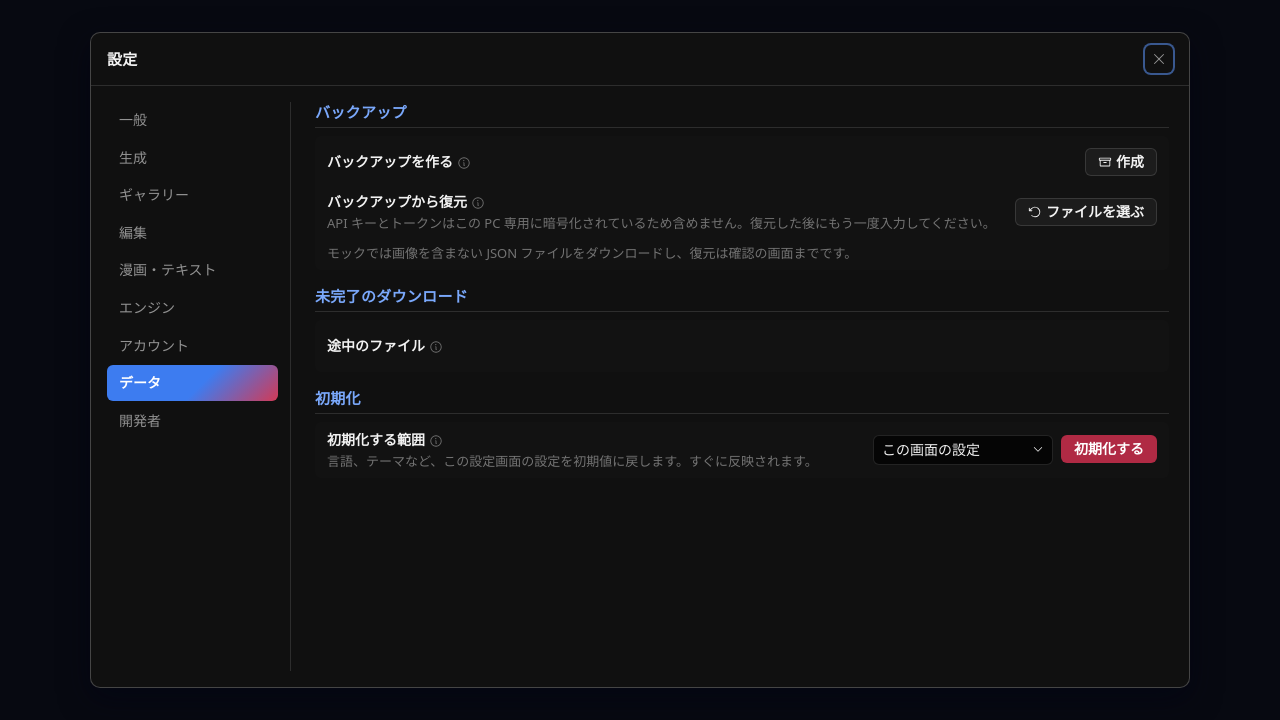
Scenario: resetting › clears every saved key of the app for everything, and nothing outside it
Click the tab with test id "settings-tab-general": (192, 120) x1=107 y1=102 x2=278 y2=138
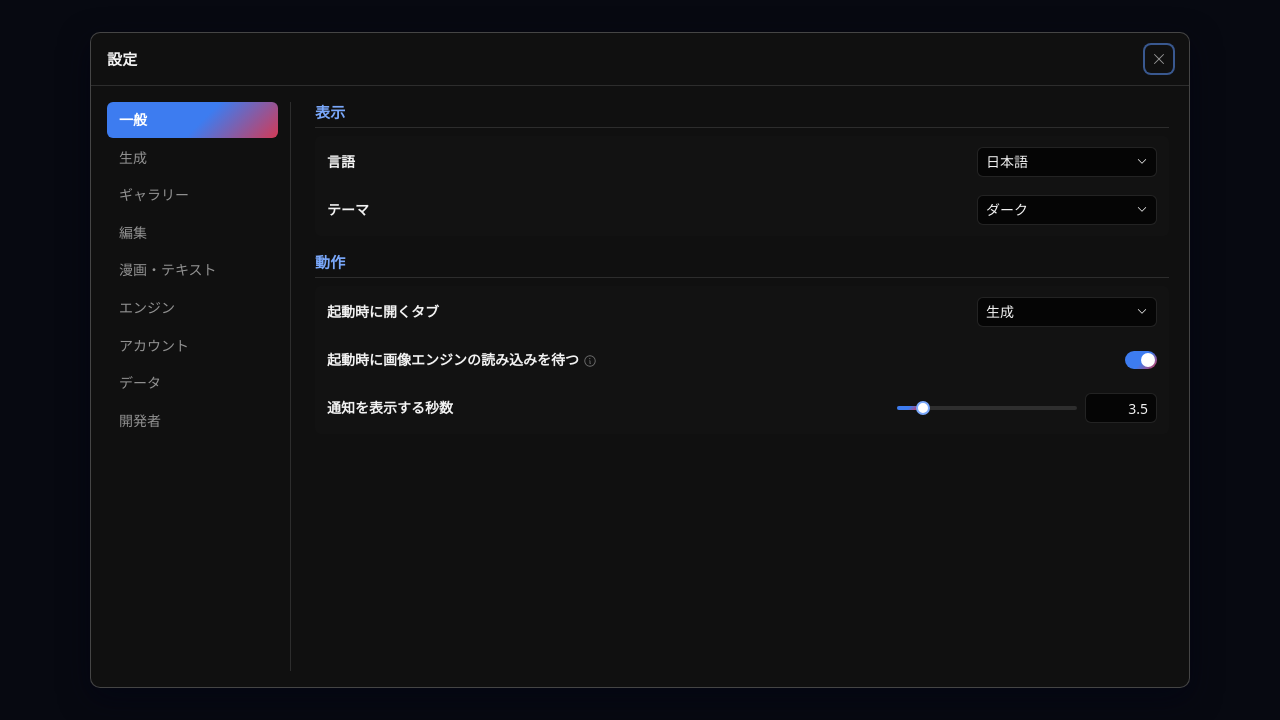
Click the tab with test id "settings-tab-data": (192, 383) x1=107 y1=365 x2=278 y2=401
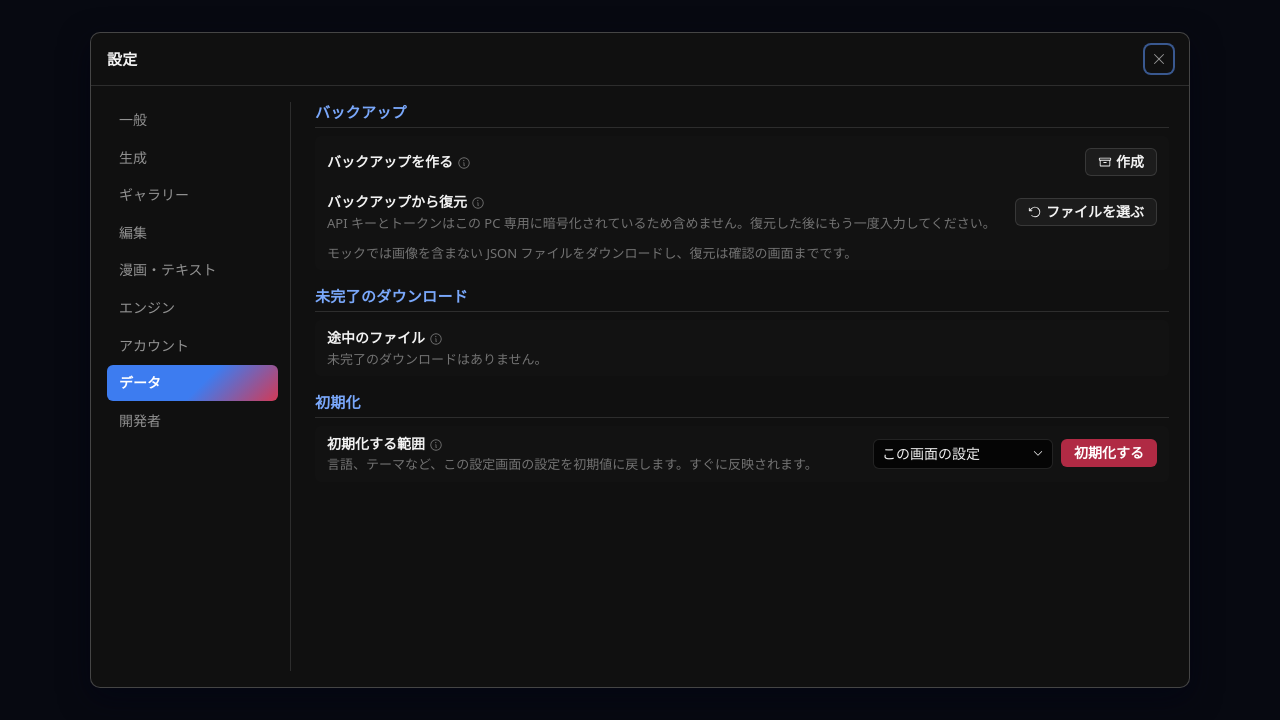
Press Enter in the dropdown with test id "settings-reset-scope", box x1=873 y1=439 x2=1053 y2=469
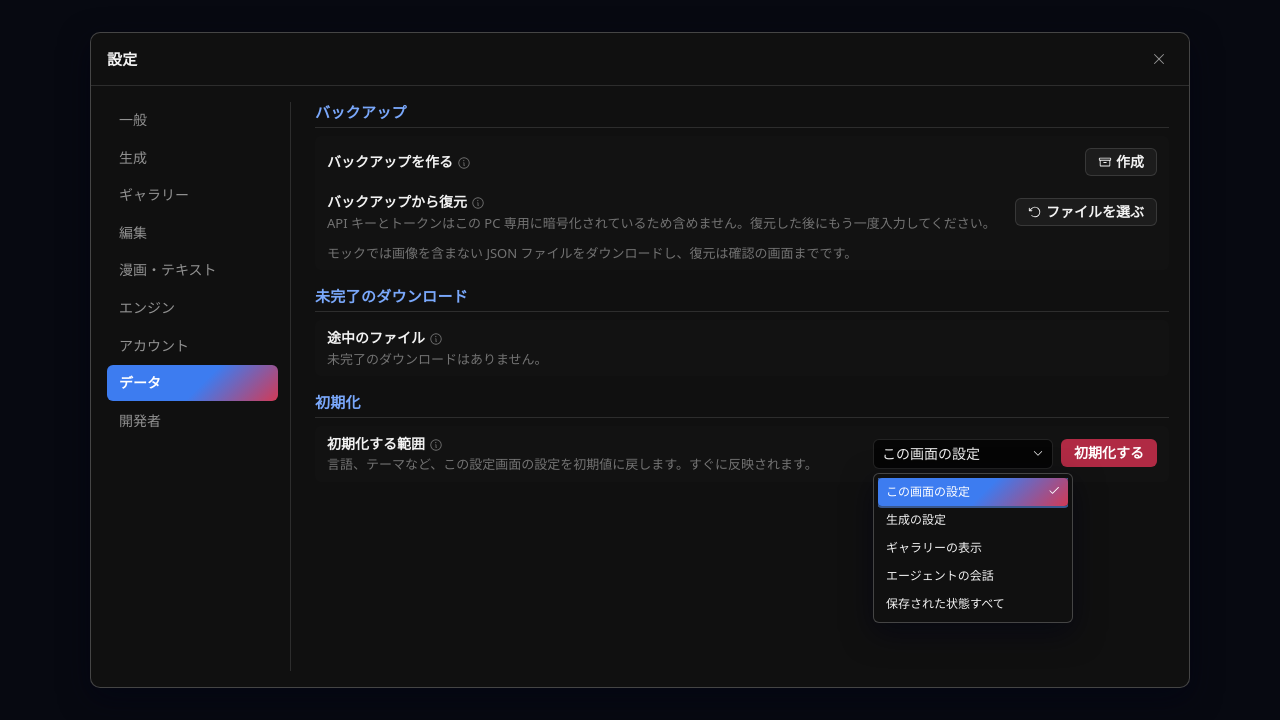
Press Enter in the option "保存された状態すべて", box x1=886 y1=595 x2=1005 y2=612
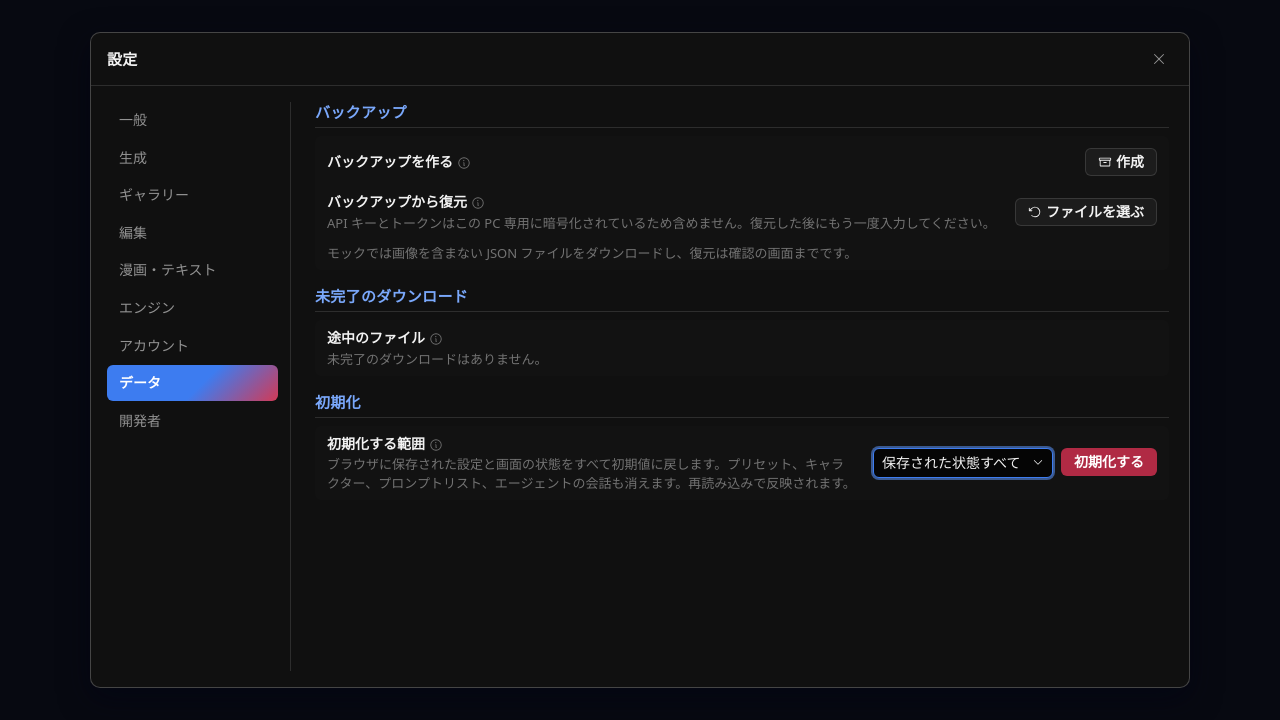
Result: the list is gone
Click the button with test id "settings-reset": (1109, 462) x1=1061 y1=448 x2=1157 y2=476
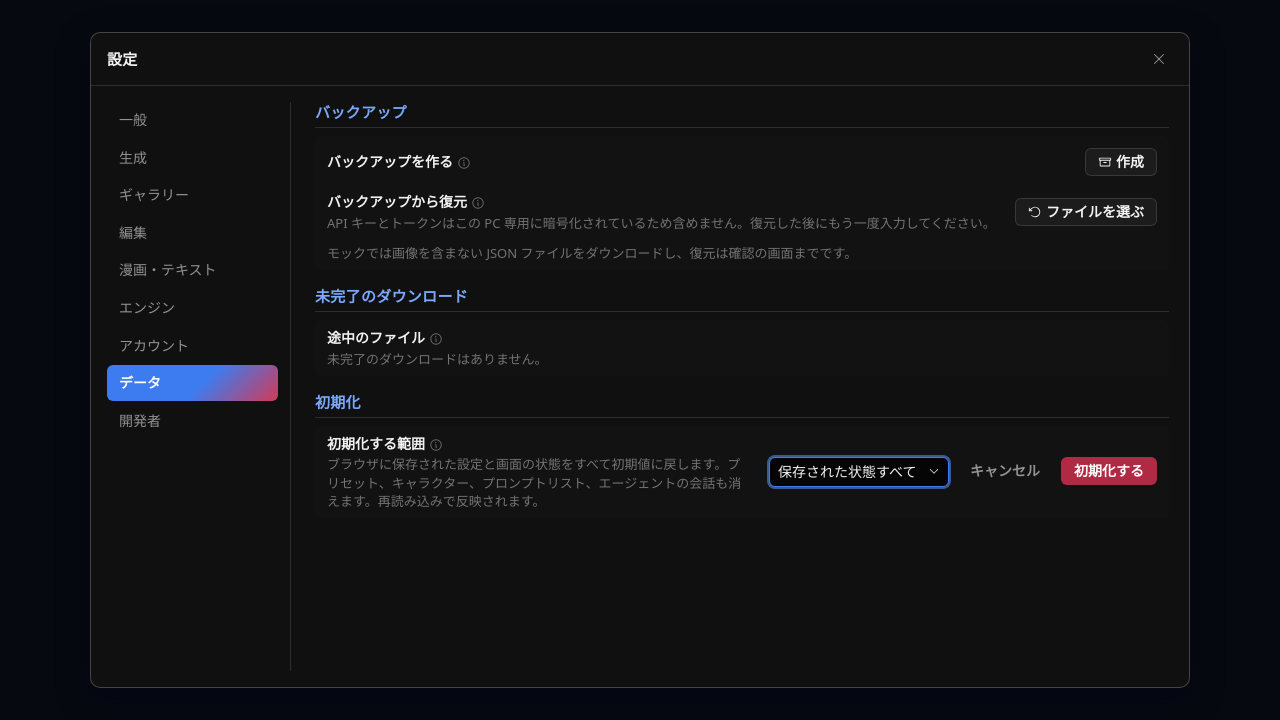
Click the button with test id "settings-reset-confirm": (1109, 471) x1=1061 y1=457 x2=1157 y2=485
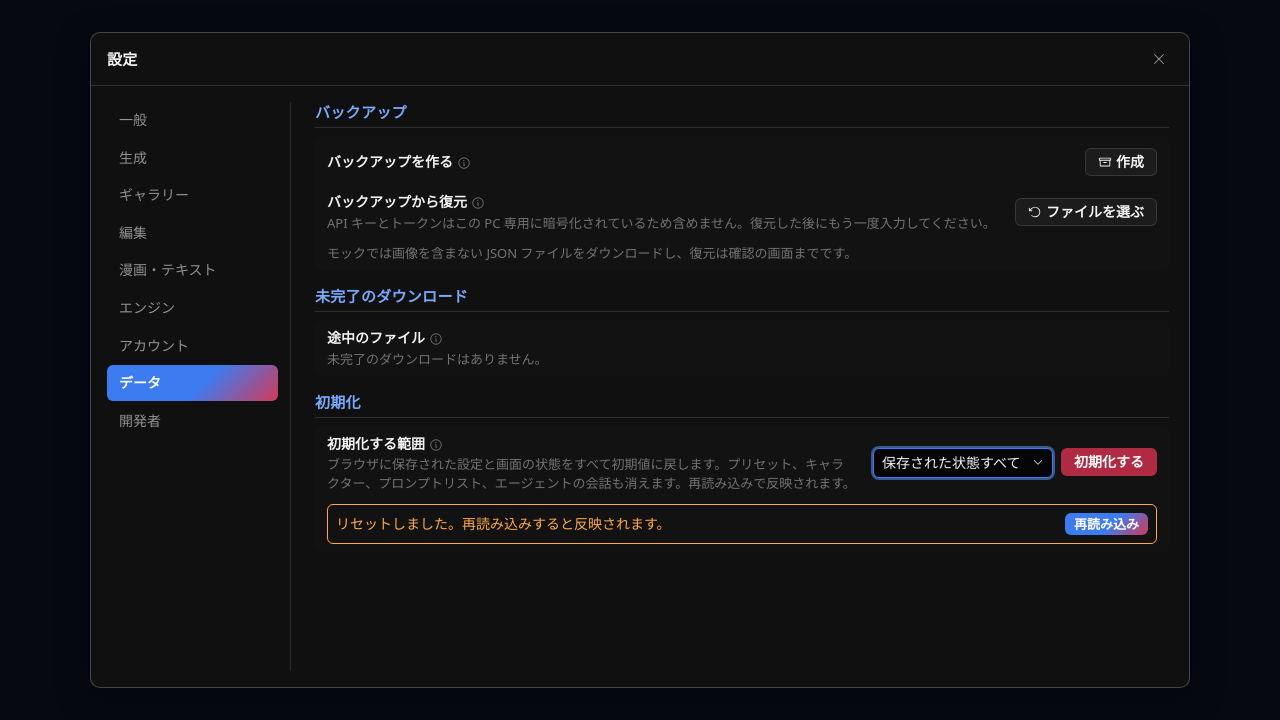
Result: the text "リセットしました。再読み込みすると反映されます。" is shown at x1=336 y1=514 x2=671 y2=534
